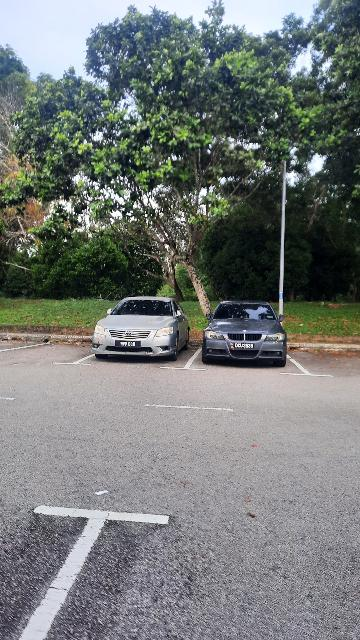License_Plate: (115, 341, 143, 348), (234, 343, 256, 350)
car: (93, 297, 191, 361), (203, 300, 288, 369)
